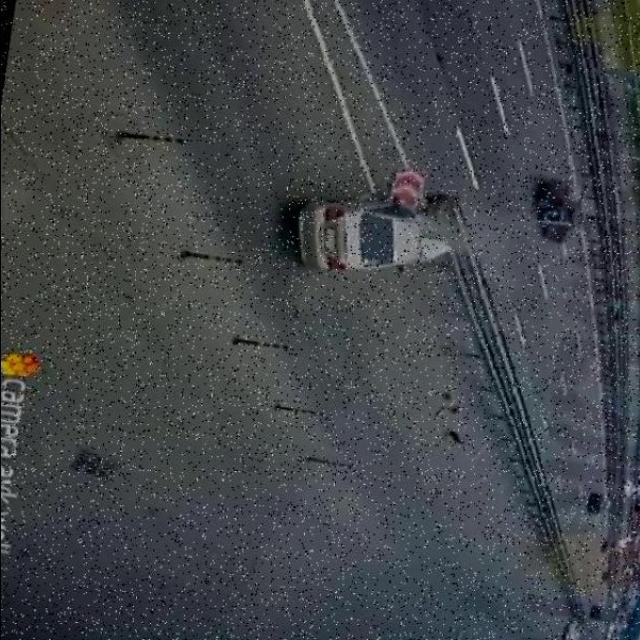accident: (259, 179, 435, 298)
